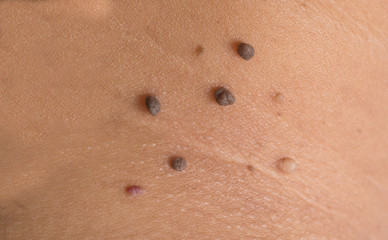melanoma: (134, 83, 185, 126)
